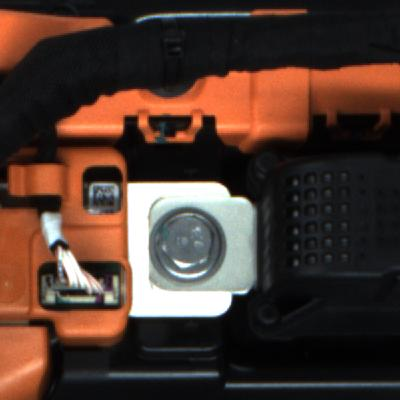nut_b: (140, 199, 260, 292)
